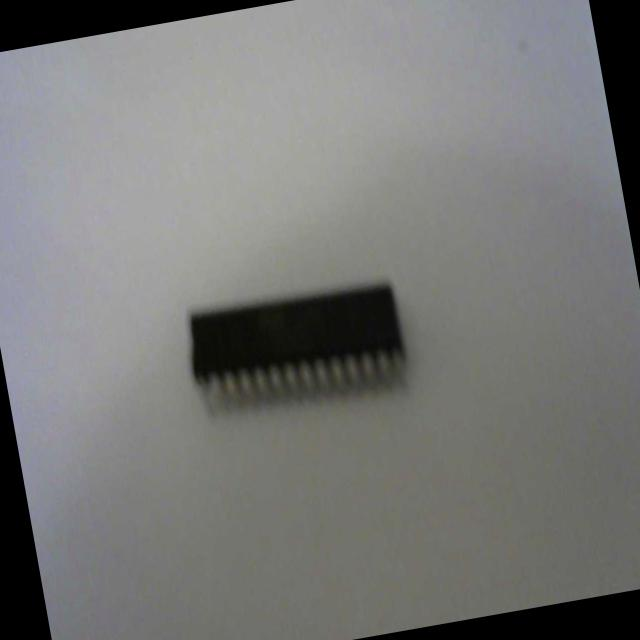atmega: (178, 268, 414, 428)
